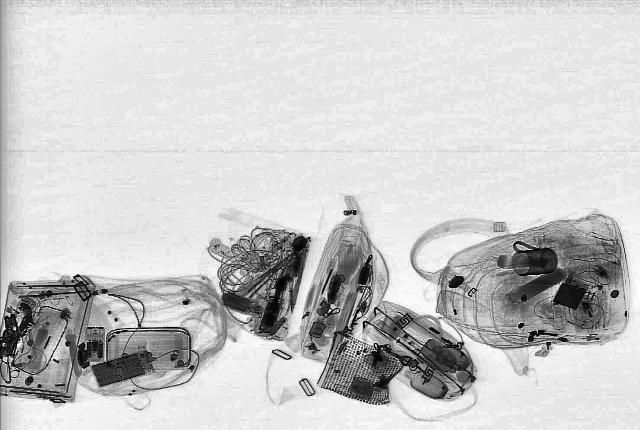Pliers: (241, 251, 299, 299)
